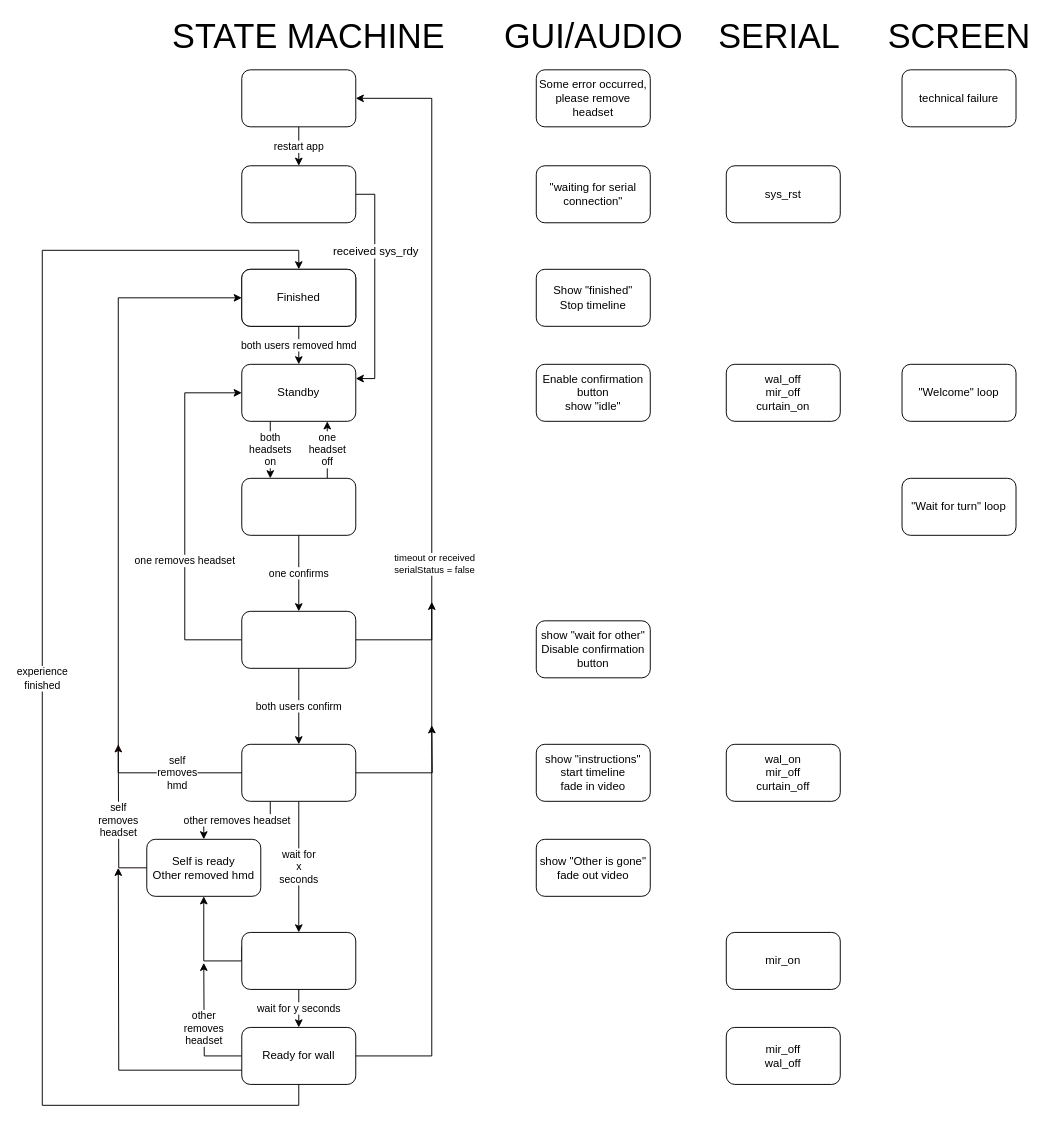
This 1055x1130 diagram has some shape labels left out. The shapes that lost their labels are listed below. From the top down, each one's centre as x and y in pixels, then its label:
At (298,98): "Failure".
At (298,194): "App initial start".
At (298,506): "Headsets on".
At (298,639): "One user ready".
At (298,772): "Experience started".
At (298,960): "Ready for mirror".
